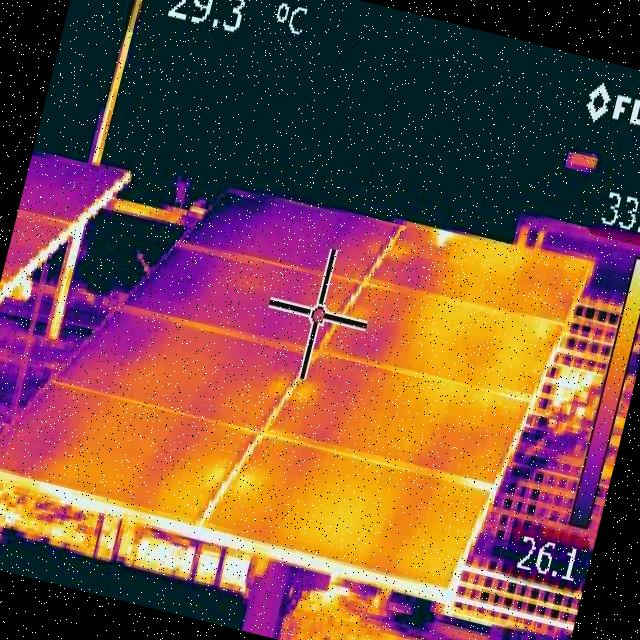Hotspot: (430, 224, 458, 252), (202, 460, 226, 490), (232, 472, 256, 496), (532, 316, 552, 344)
